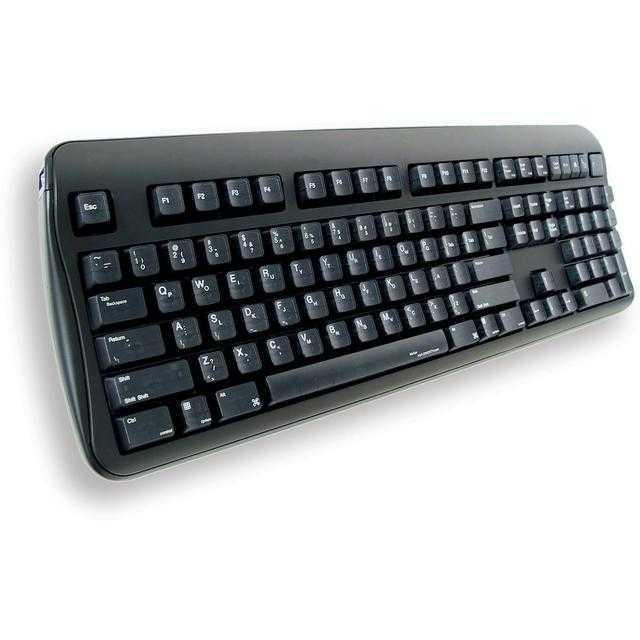keyboard: (49, 144, 636, 474)
